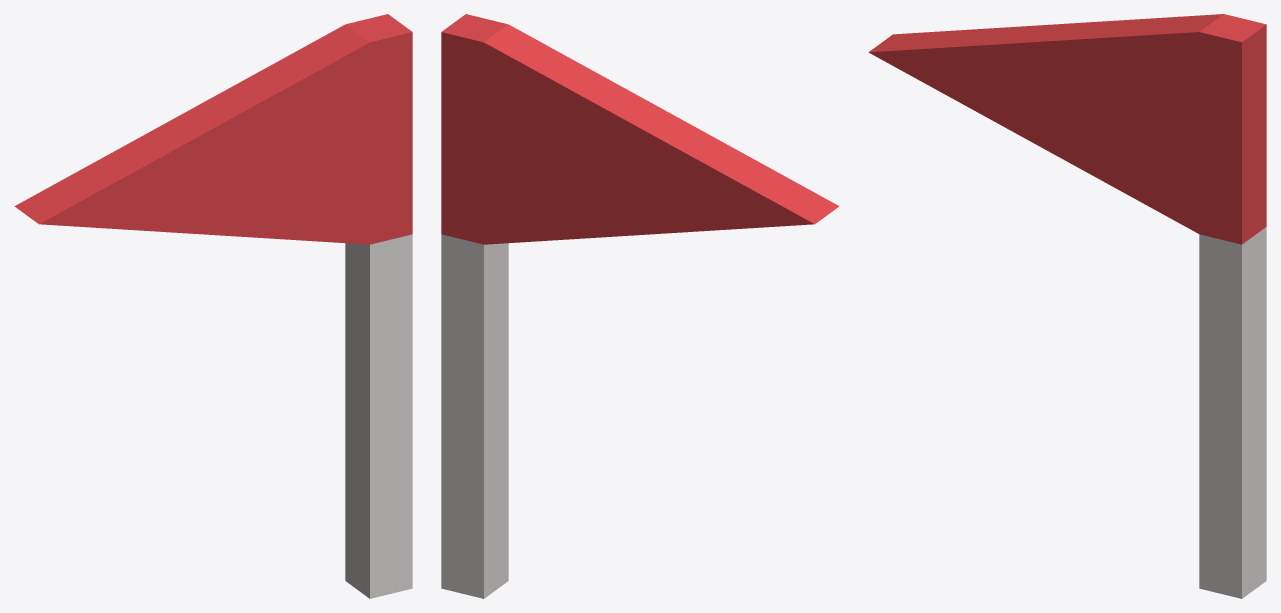
The model's file is RedFlag.glb.
3 renders of one model, left to right at view 1: azimuth 30°, elevation 25°; view 2: azimuth 150°, elevation 25°; view 3: azimuth 330°, elevation 25°, orthographic.
Parts seen in each view (by area): view 1: Cube.001, Cube; view 2: Cube.001, Cube; view 3: Cube.001, Cube.
Part boxes in pixels (x1=…): Cube.001: x1=14, y1=14, x2=412, y2=244; Cube: x1=345, y1=234, x2=412, y2=598; Cube.001: x1=441, y1=14, x2=839, y2=244; Cube: x1=441, y1=234, x2=508, y2=598; Cube.001: x1=868, y1=14, x2=1266, y2=244; Cube: x1=1199, y1=227, x2=1266, y2=598.
Bounding box in the file's own units: 17.53 × 24.95 × 2.
